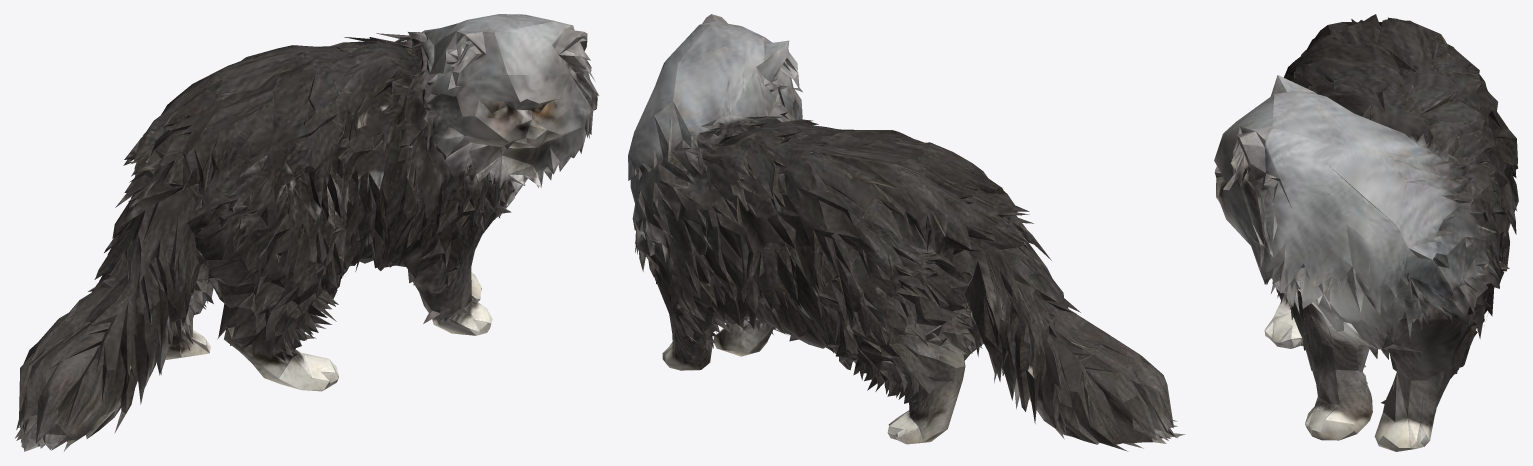
File: ATCHOUMCAT.glb
The picture shows the model from 3 angles, left to right: view 1: azimuth 30°, elevation 25°; view 2: azimuth 150°, elevation 25°; view 3: azimuth 270°, elevation 25°; orthographic projection. The views are drawn at different scales.
Visible parts, largest first — view 1: fit; view 2: fit; view 3: fit.
Boxes of the visible parts, bbox=[...] form: fit: bbox=[15, 14, 599, 451]; fit: bbox=[628, 14, 1185, 451]; fit: bbox=[1214, 14, 1518, 451].
Bounding box in the file's own units: 1.84 × 0.9938 × 0.8005.
1 material, 1 textured.
